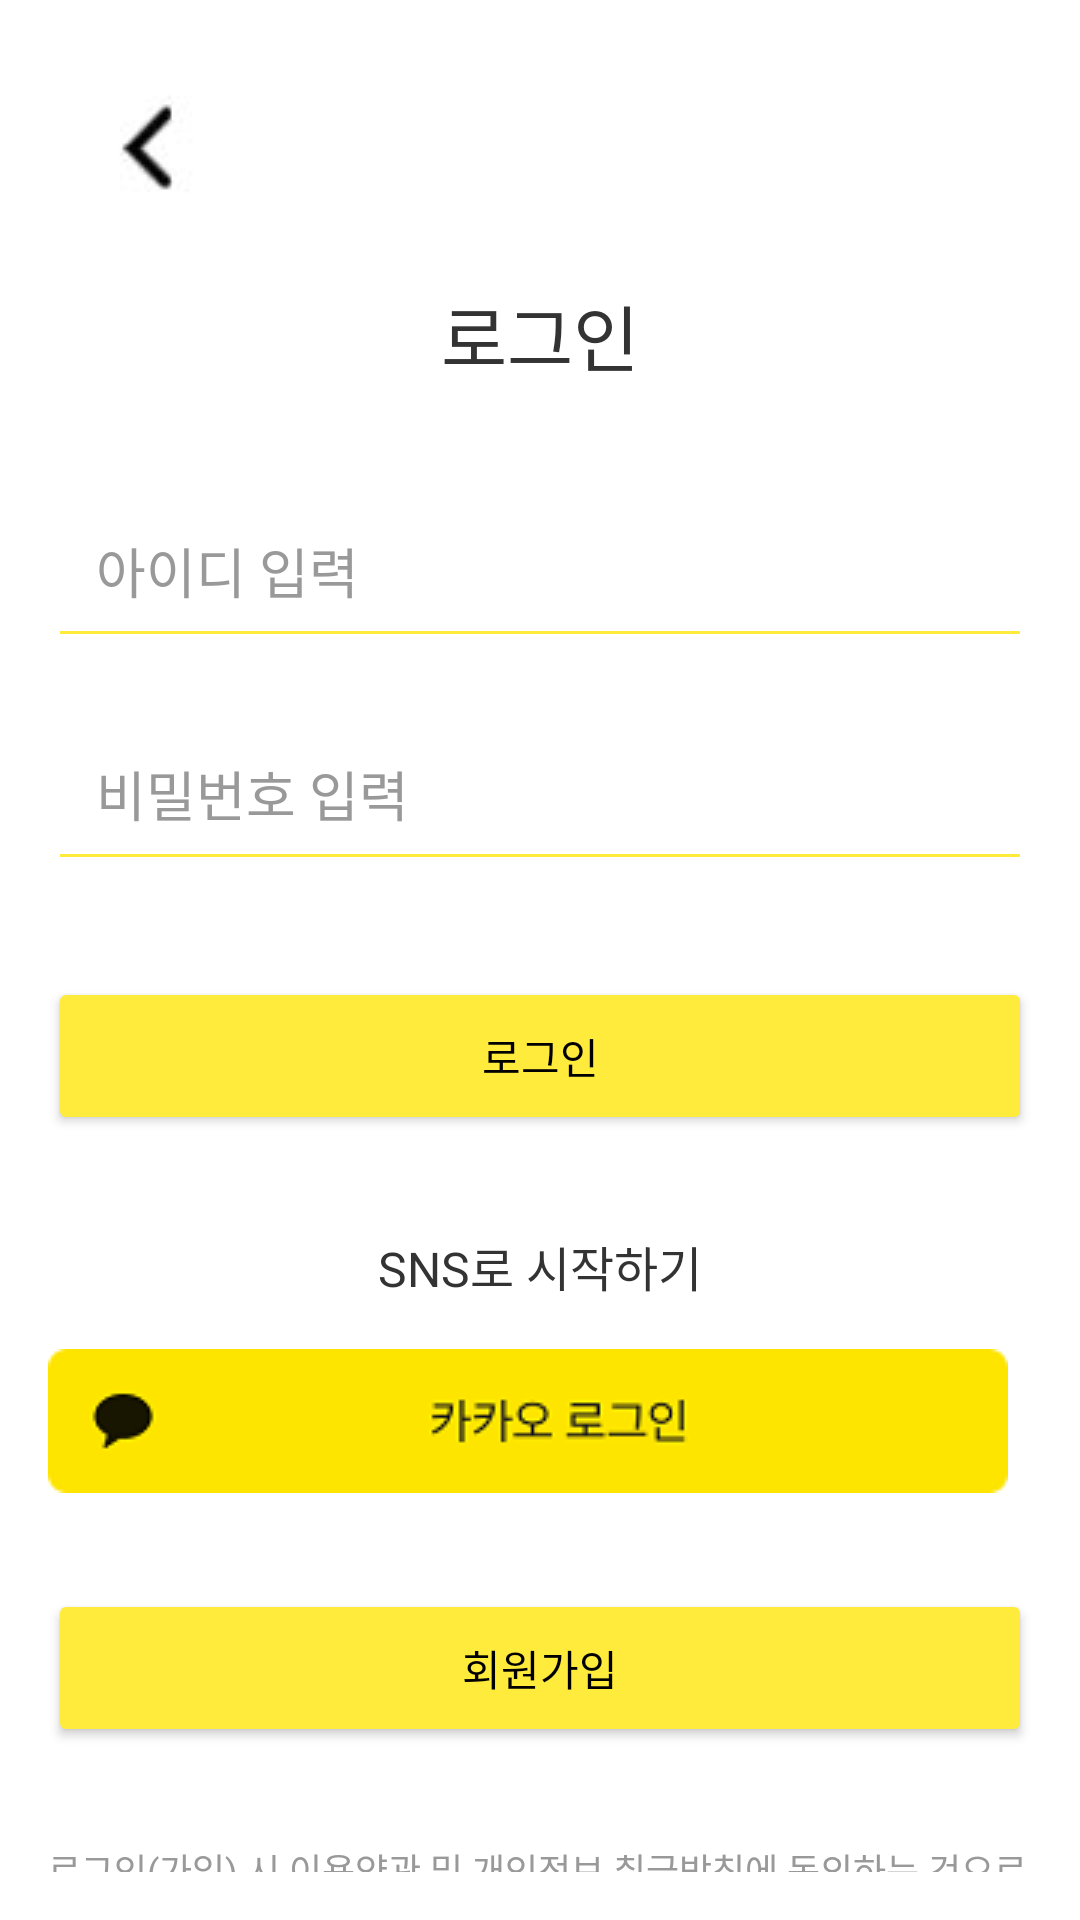

Icon click points for this 1080w x 1920h phone screenshot, format point (x, y):
뒤로가기: point (147, 147)
